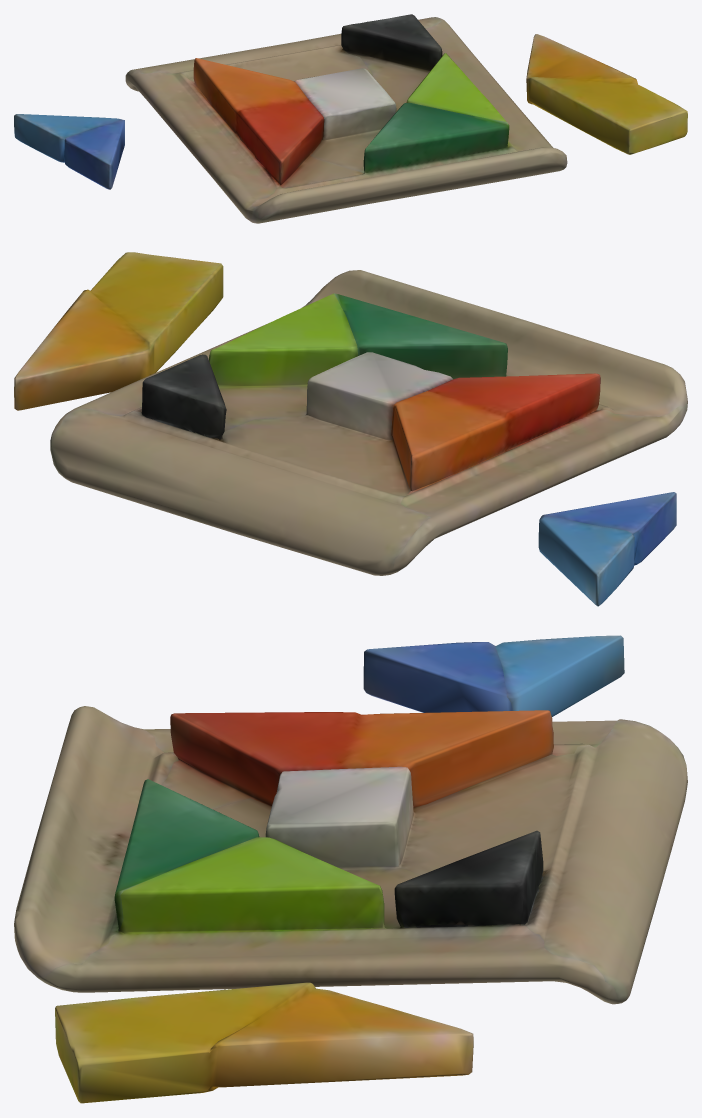
File: TWISTED_PUZZLE_twb4AyFtu8Q-high.glb
3 renders of one model, top to bottom at view 1: azimuth 30°, elevation 25°; view 2: azimuth 150°, elevation 25°; view 3: azimuth 270°, elevation 25°, orthographic. The views are drawn at different scales.
Parts seen in each view (by area): view 1: TWISTED_PUZZLE_twb4AyFtu8Q; view 2: TWISTED_PUZZLE_twb4AyFtu8Q; view 3: TWISTED_PUZZLE_twb4AyFtu8Q.
Boxes of the visible parts, x1=… form: TWISTED_PUZZLE_twb4AyFtu8Q: x1=14, y1=14, x2=687, y2=223; TWISTED_PUZZLE_twb4AyFtu8Q: x1=14, y1=252, x2=687, y2=606; TWISTED_PUZZLE_twb4AyFtu8Q: x1=14, y1=635, x2=687, y2=1103.
Bounding box in the file's own units: 0.3025 × 0.0354 × 0.204.
Materials: 1 (1 with a texture image).
